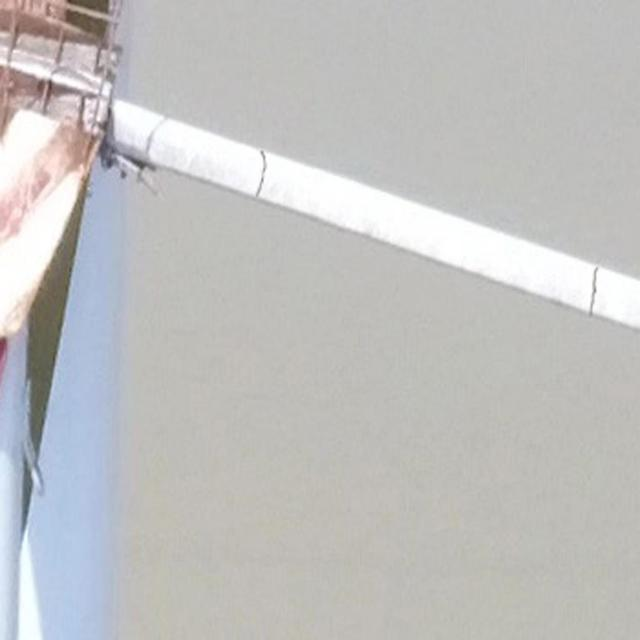crack: (255, 150, 268, 198), (588, 267, 600, 316)
